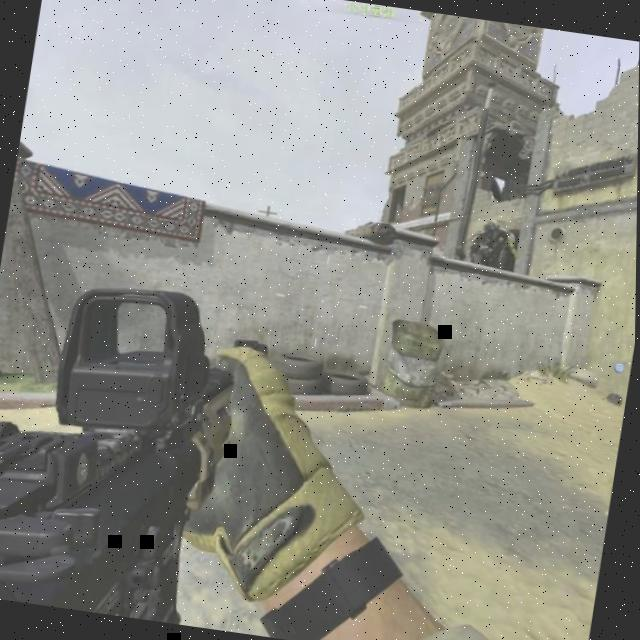MW2_body: (469, 218, 518, 271)
